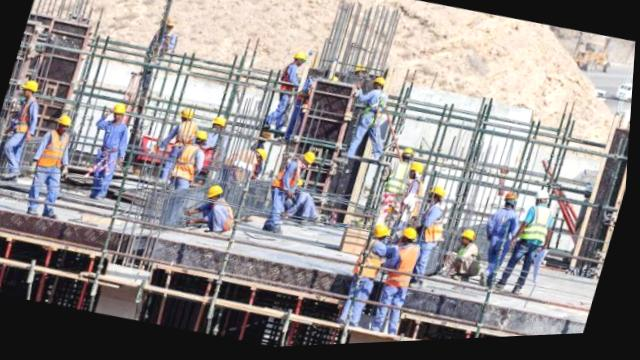helmet: (300, 143, 326, 168), (110, 98, 137, 120), (246, 147, 269, 169), (288, 49, 313, 69), (20, 75, 45, 94), (52, 109, 74, 128), (414, 159, 433, 180), (178, 104, 197, 125), (401, 147, 420, 166), (206, 180, 225, 198), (160, 11, 178, 28), (375, 226, 394, 242), (196, 127, 212, 143), (369, 75, 386, 90), (212, 115, 230, 129), (537, 193, 552, 208), (408, 229, 424, 242), (464, 231, 478, 245), (430, 190, 444, 202)
vest: (514, 202, 559, 255), (270, 159, 314, 202), (170, 142, 210, 187), (354, 238, 393, 282), (390, 244, 425, 293), (35, 128, 72, 172), (12, 92, 45, 134), (423, 202, 454, 246), (382, 163, 412, 200), (171, 120, 197, 147)
